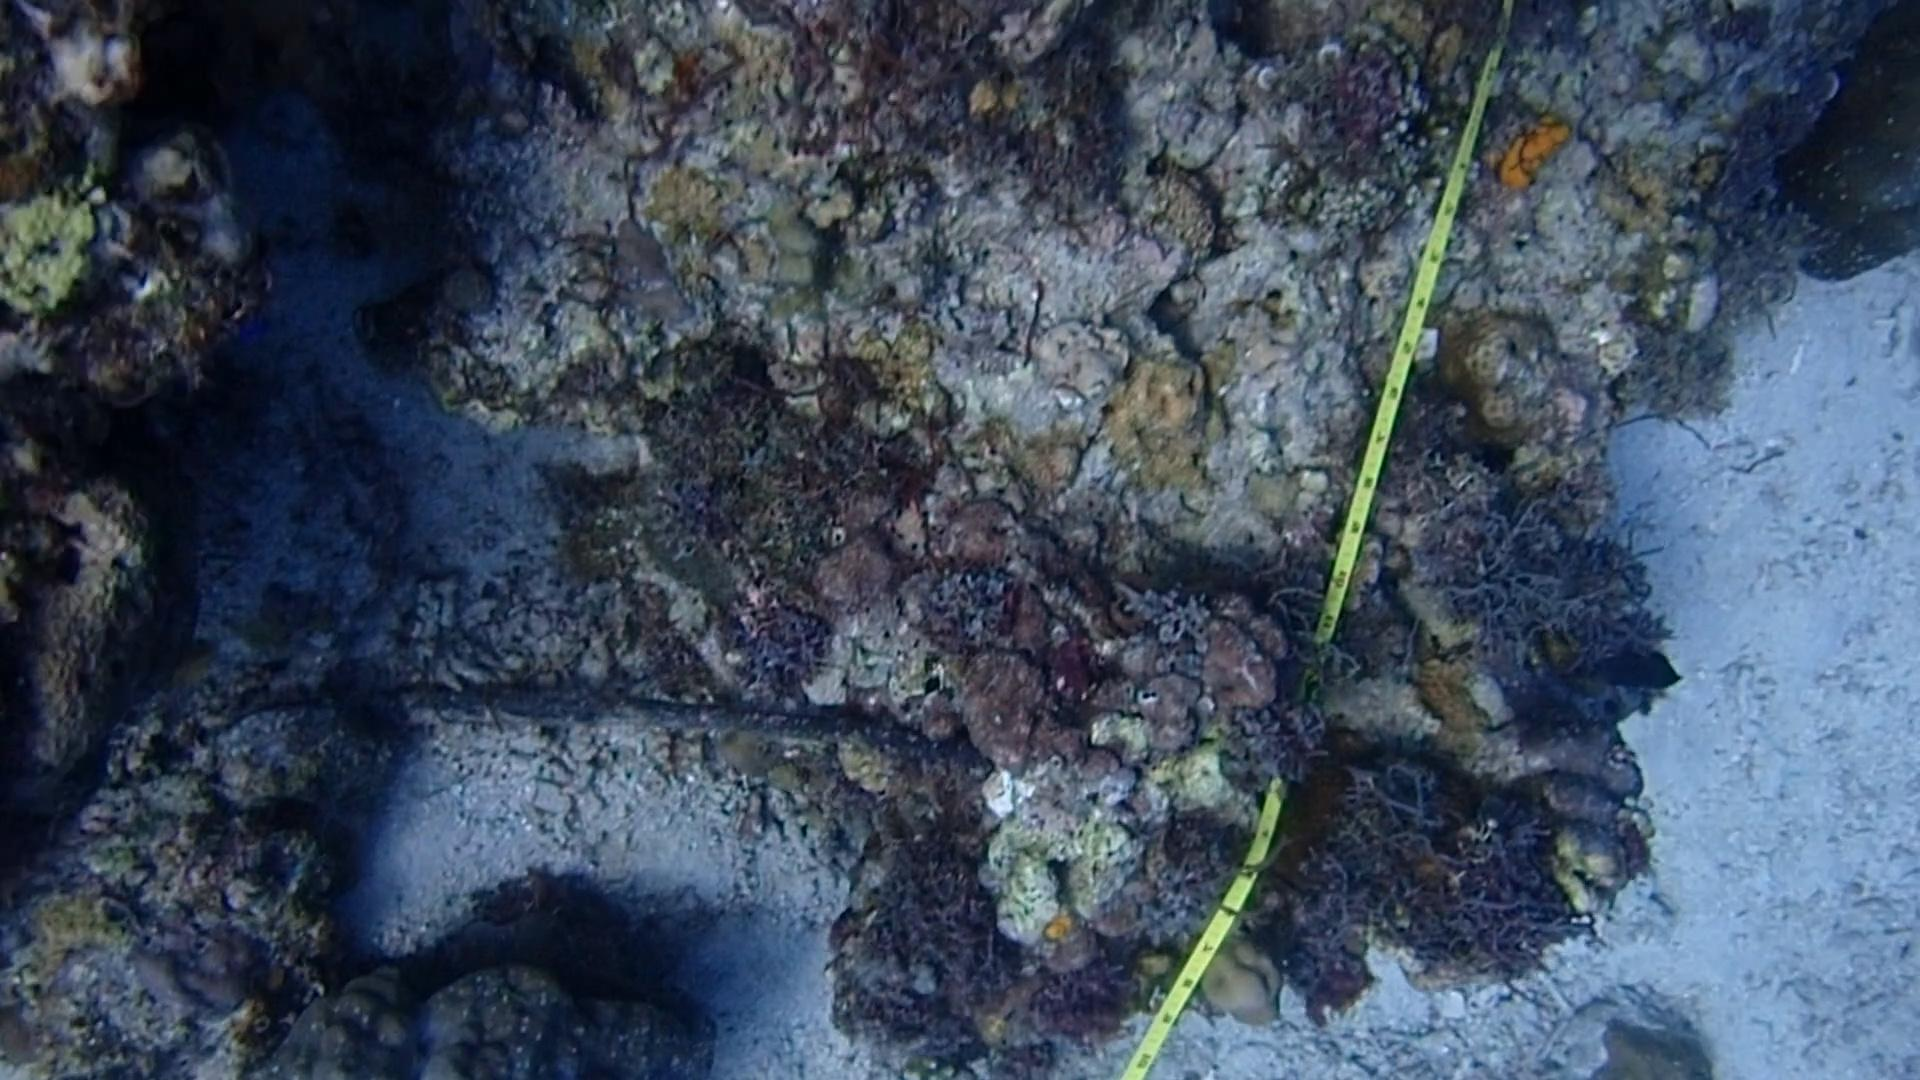Dark Fish: (1588, 633, 1693, 715)
